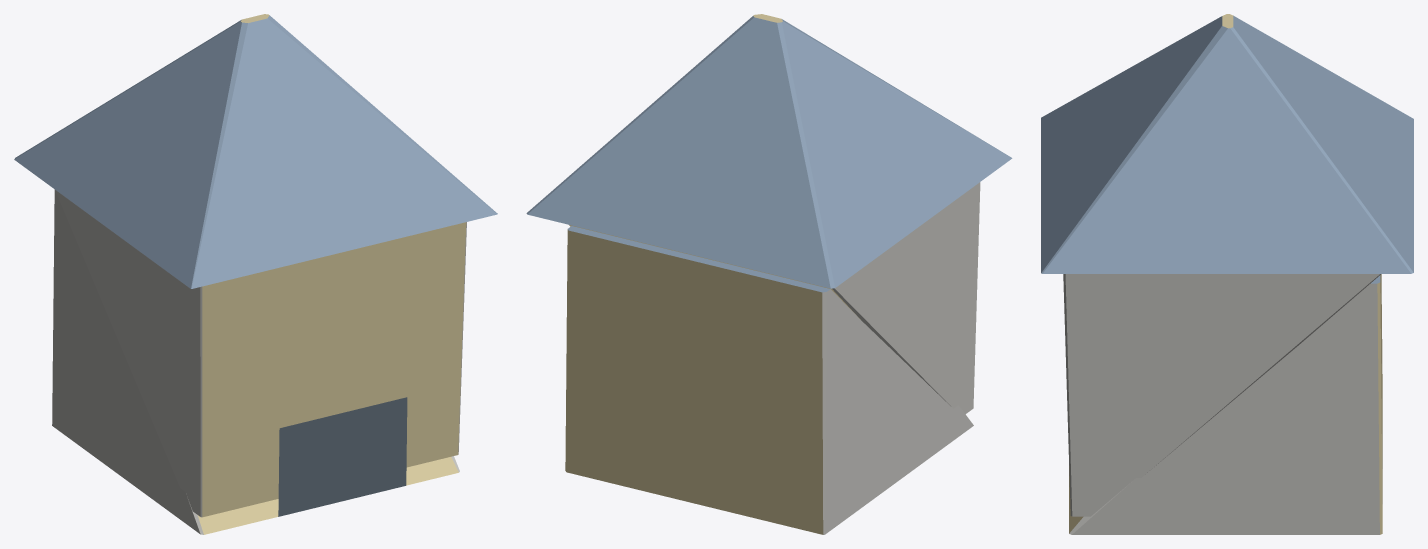
The model's file is loin.glb.
The picture shows the model from 3 angles, left to right: view 1: azimuth 30°, elevation 25°; view 2: azimuth 150°, elevation 25°; view 3: azimuth 270°, elevation 25°; orthographic projection. The views are drawn at different scales.
Visible parts, largest first — view 1: loin; view 2: loin; view 3: loin.
Part boxes in pixels (box(x1,y1,x2,y2)): loin: box(14, 14, 497, 534); loin: box(526, 14, 1012, 534); loin: box(1041, 14, 1413, 534).
Bounding box in the file's own units: 0.7117 × 0.9501 × 0.7166.
